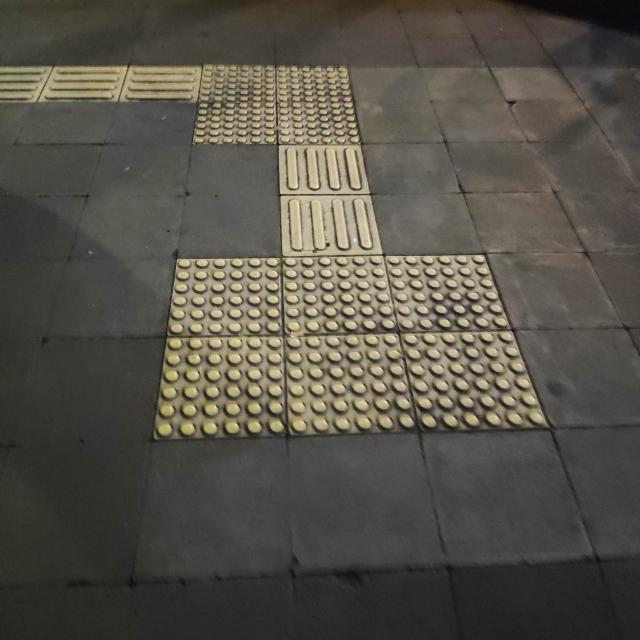kiri: (68, 41, 399, 186)
